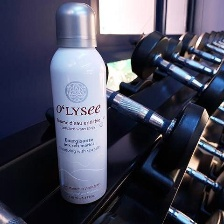aerosol_cans: (44, 0, 114, 207)
